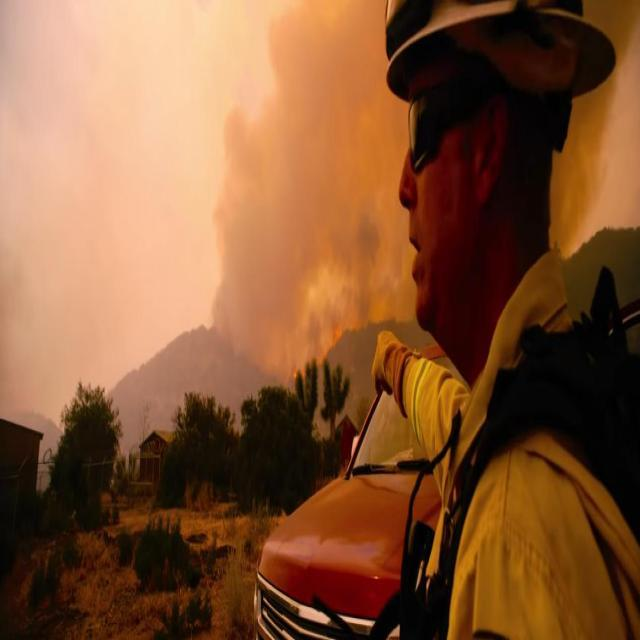Fire: (292, 319, 355, 356)
Smoke: (224, 10, 402, 354), (555, 2, 628, 261)
